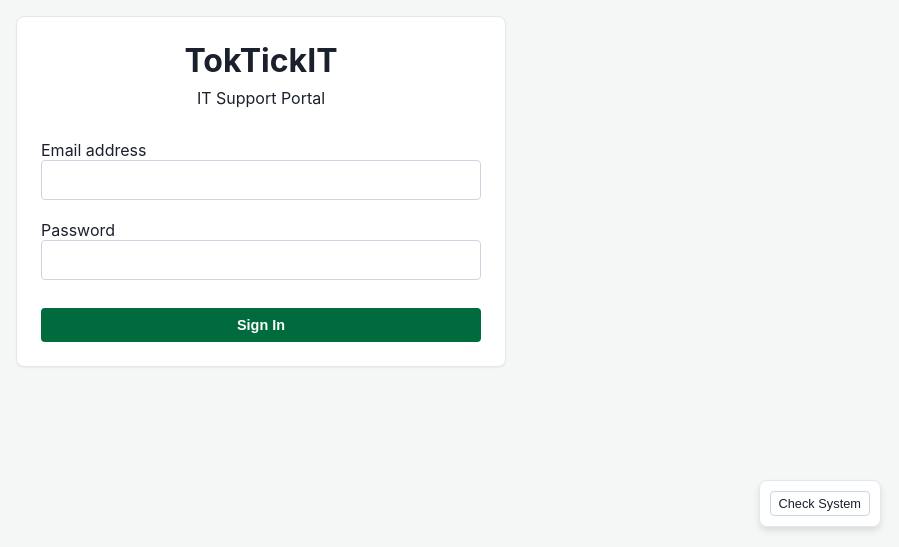
Scenario: App › shows Online and the seeded categories on success
What coordinates should you click on to do the following:
click the button "Check System"
I would click on:
 (820, 504)
Its box is [770,491,870,516].
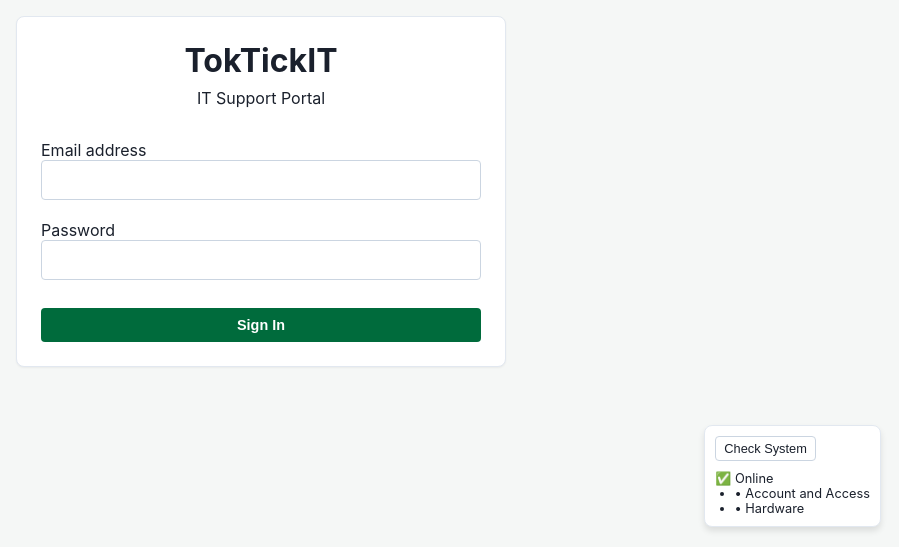
Now the text "✅ Online" is shown, box [715,471,774,486]
Now the list item "• Account and Access" is shown, box [734,486,870,501]
Now the list item "• Hardware" is shown, box [734,501,804,516]
